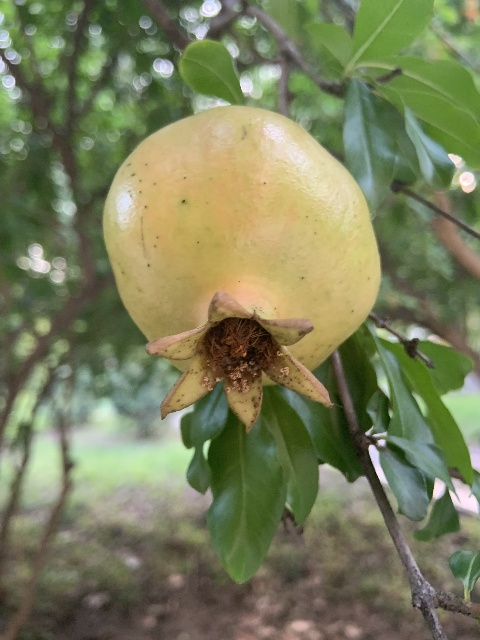mid-growth: (101, 103, 381, 439)
